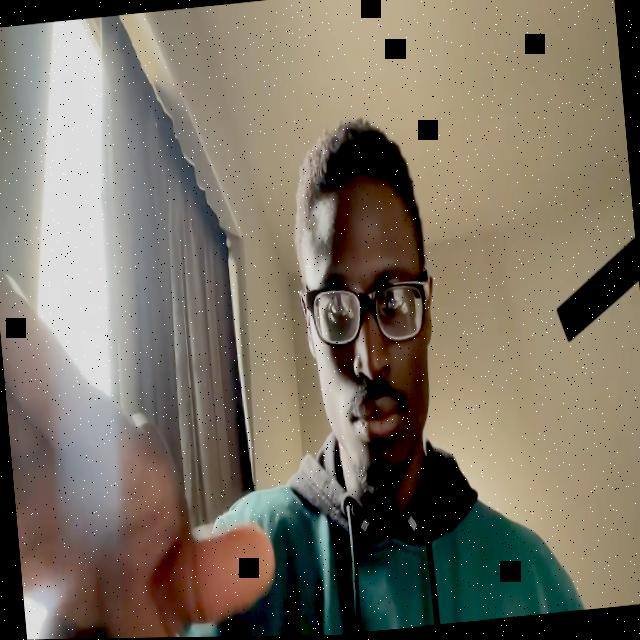Paper: (0, 241, 280, 640)
